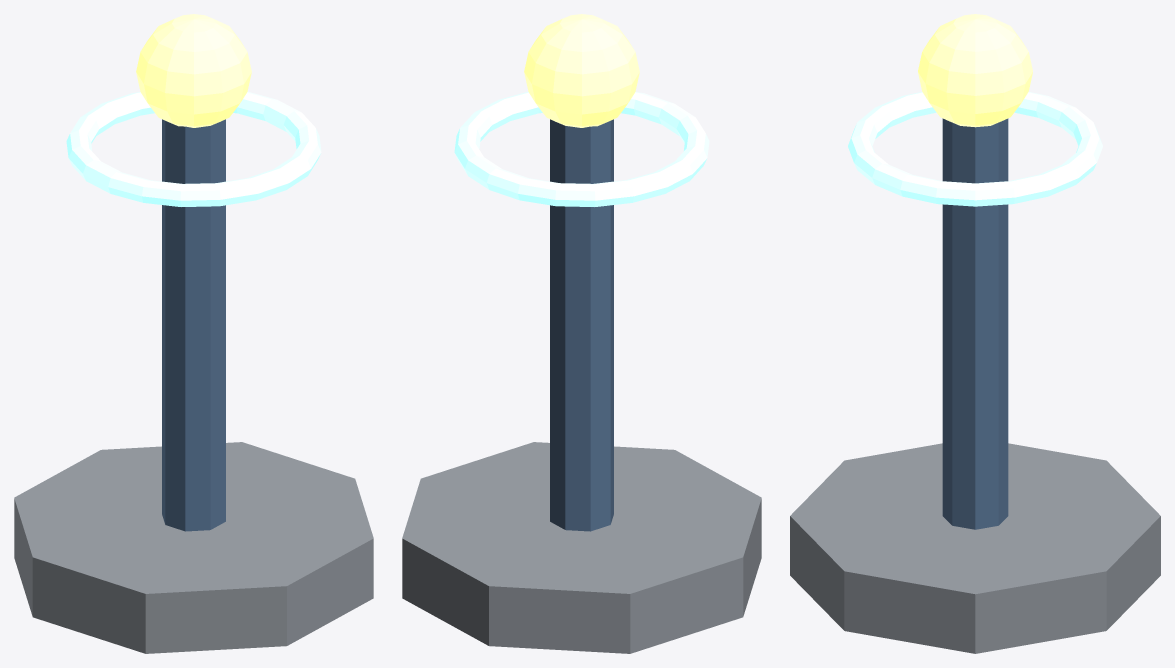
Rendered from zone-marker.glb.
3 renders of one model, left to right at view 1: azimuth 30°, elevation 25°; view 2: azimuth 150°, elevation 25°; view 3: azimuth 270°, elevation 25°, orthographic.
Parts seen in each view (by area): view 1: Zone_Base, Zone_Shaft, Zone_Ring, Zone_Cap; view 2: Zone_Base, Zone_Shaft, Zone_Ring, Zone_Cap; view 3: Zone_Base, Zone_Shaft, Zone_Ring, Zone_Cap.
Part boxes in pixels (x1,y1,x2,y2): Zone_Base: (14, 442, 373, 653); Zone_Shaft: (162, 119, 225, 531); Zone_Ring: (66, 91, 321, 206); Zone_Cap: (136, 14, 251, 127); Zone_Base: (402, 442, 761, 653); Zone_Shaft: (550, 119, 613, 531); Zone_Ring: (454, 91, 709, 206); Zone_Cap: (524, 14, 639, 127); Zone_Base: (790, 443, 1160, 653); Zone_Shaft: (942, 118, 1008, 529); Zone_Ring: (848, 92, 1102, 206); Zone_Cap: (918, 14, 1032, 127).
Size of the model in its own units: 0.9 by 1.49 by 0.9.
